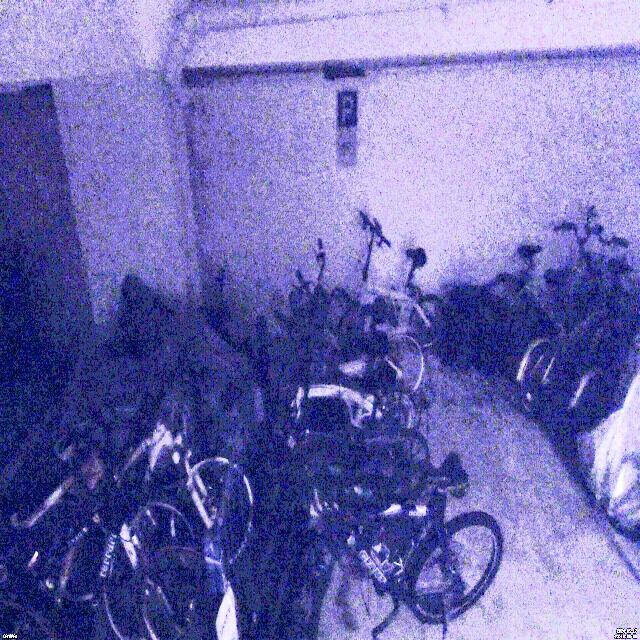bike: (296, 451, 501, 640), (34, 394, 254, 566), (294, 237, 426, 395), (337, 213, 443, 367), (483, 220, 608, 347)
